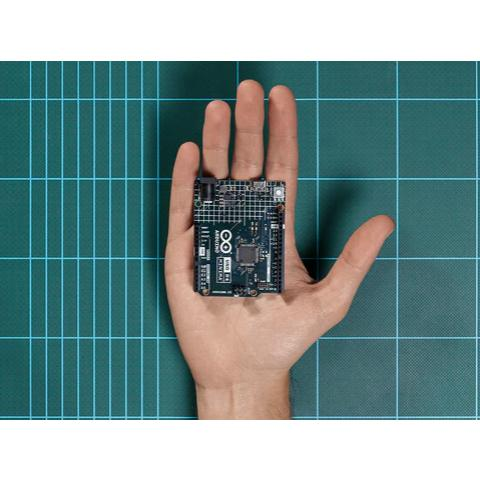Arduino-Uno: (190, 174, 286, 300)
